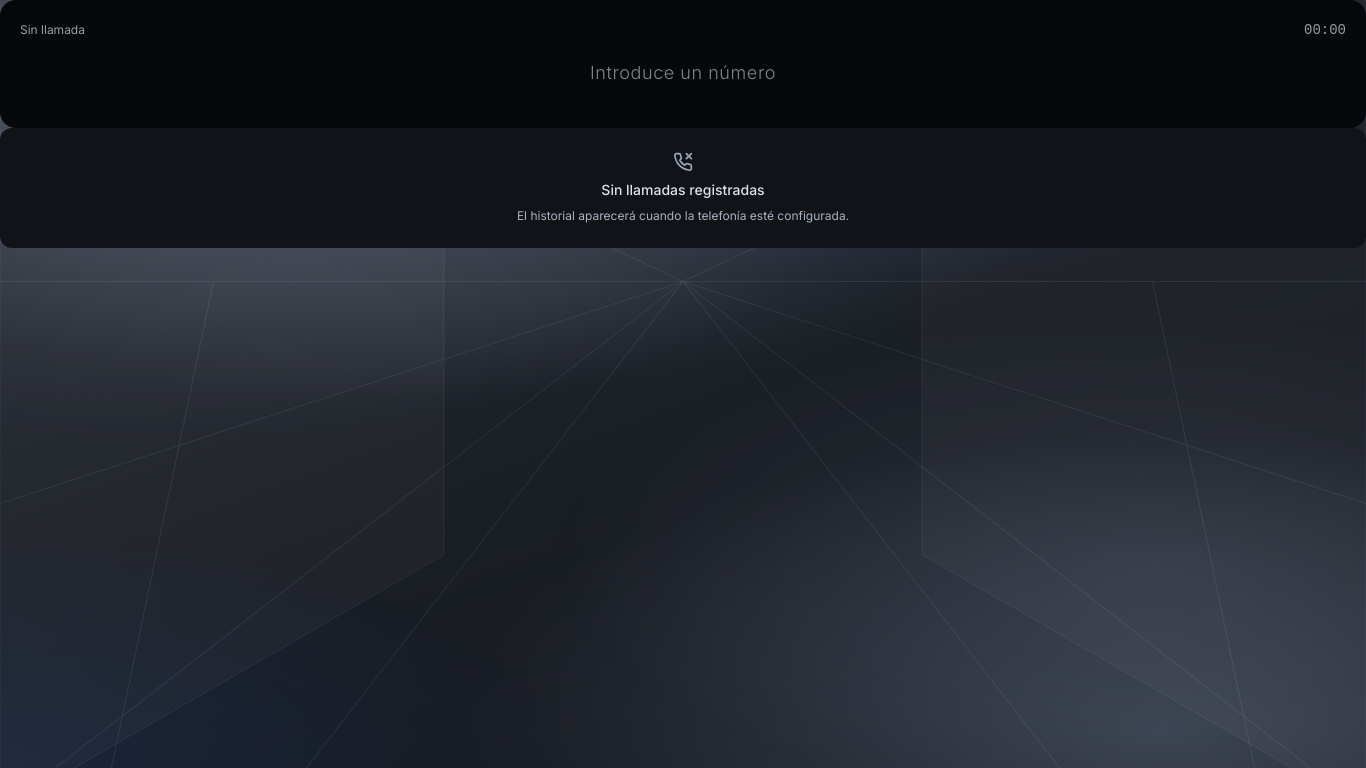
during a call the screen shows the other person and cannot be edited
The image size is (1366, 768).
Later steps or results of the test are not shown.
Type "71301928" into the field named "Número marcado". click: (683, 70)
box: [20,52,1346,88]
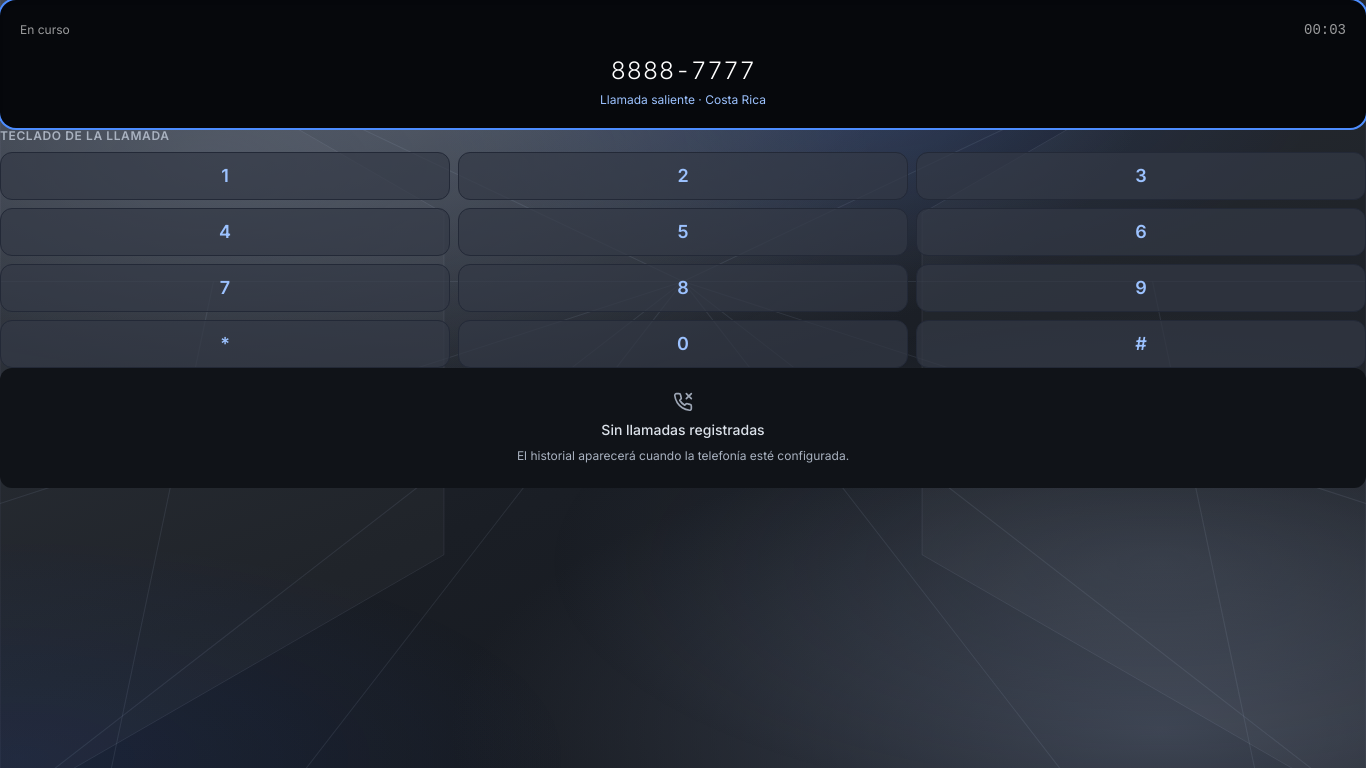
Check: the field named "Número marcado" holds "8888-7777"
Type "5" into the field named "Número marcado". click: (683, 70)
box: [20,52,1346,88]
Then press Enter
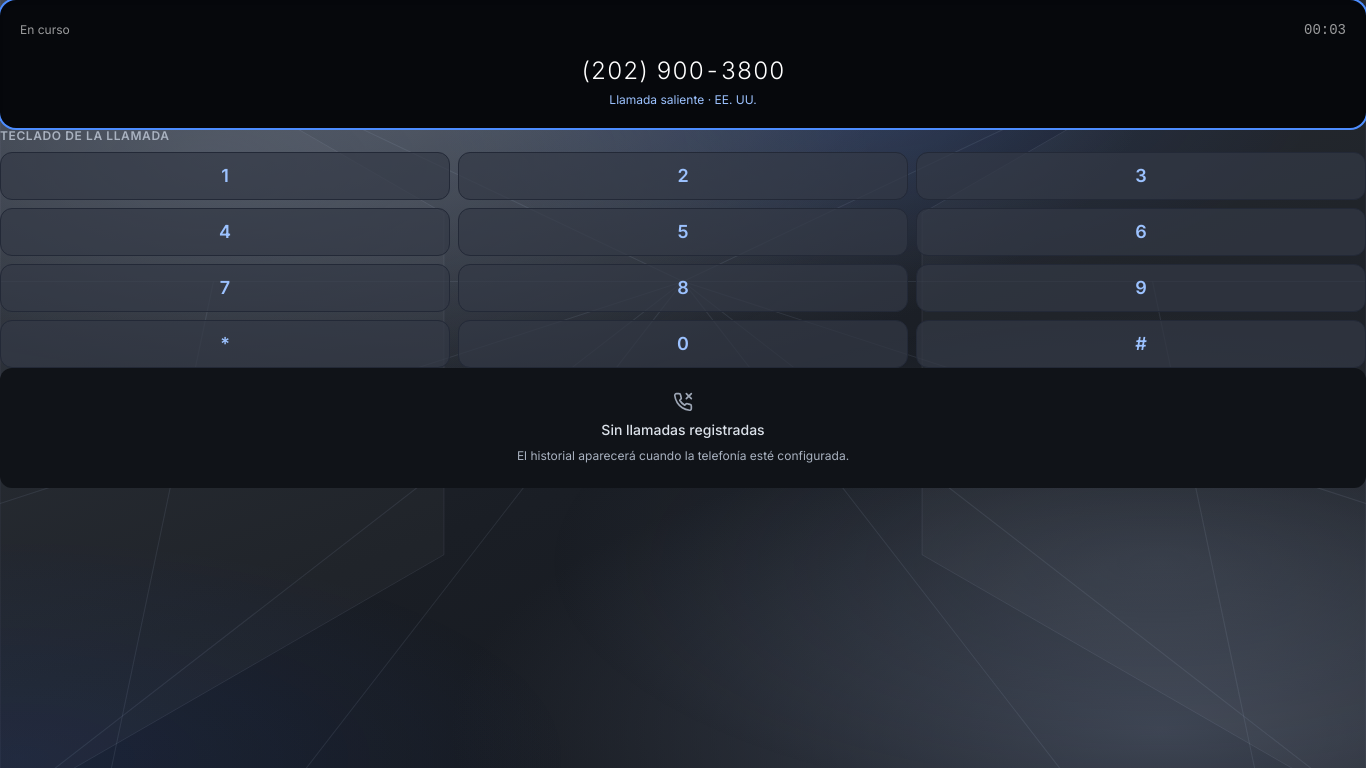
Check: the field named "Número marcado" holds "(202) 900-3800", box [20,52,1346,88]
